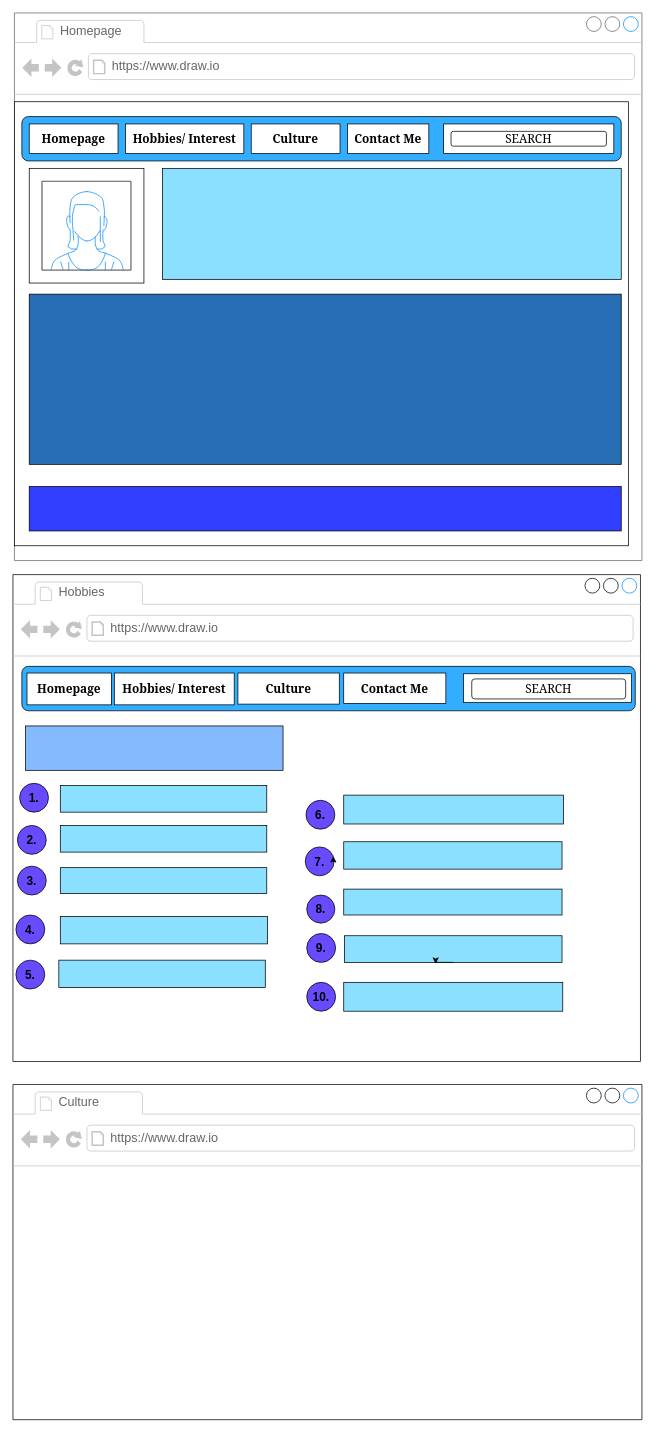
The diagram is 655 pixels wide and 1433 high, and some of its shapes have lost their labels. Here are the shapes that lost their labels. From the top down, the box of each, then its label:
(162, 168, 621, 279): #8CE0FF
(28, 293, 621, 464): #286EB5
(28, 486, 621, 531): #303EFF
(25, 725, 283, 770): Top 10 | Hobbies/ Interests
